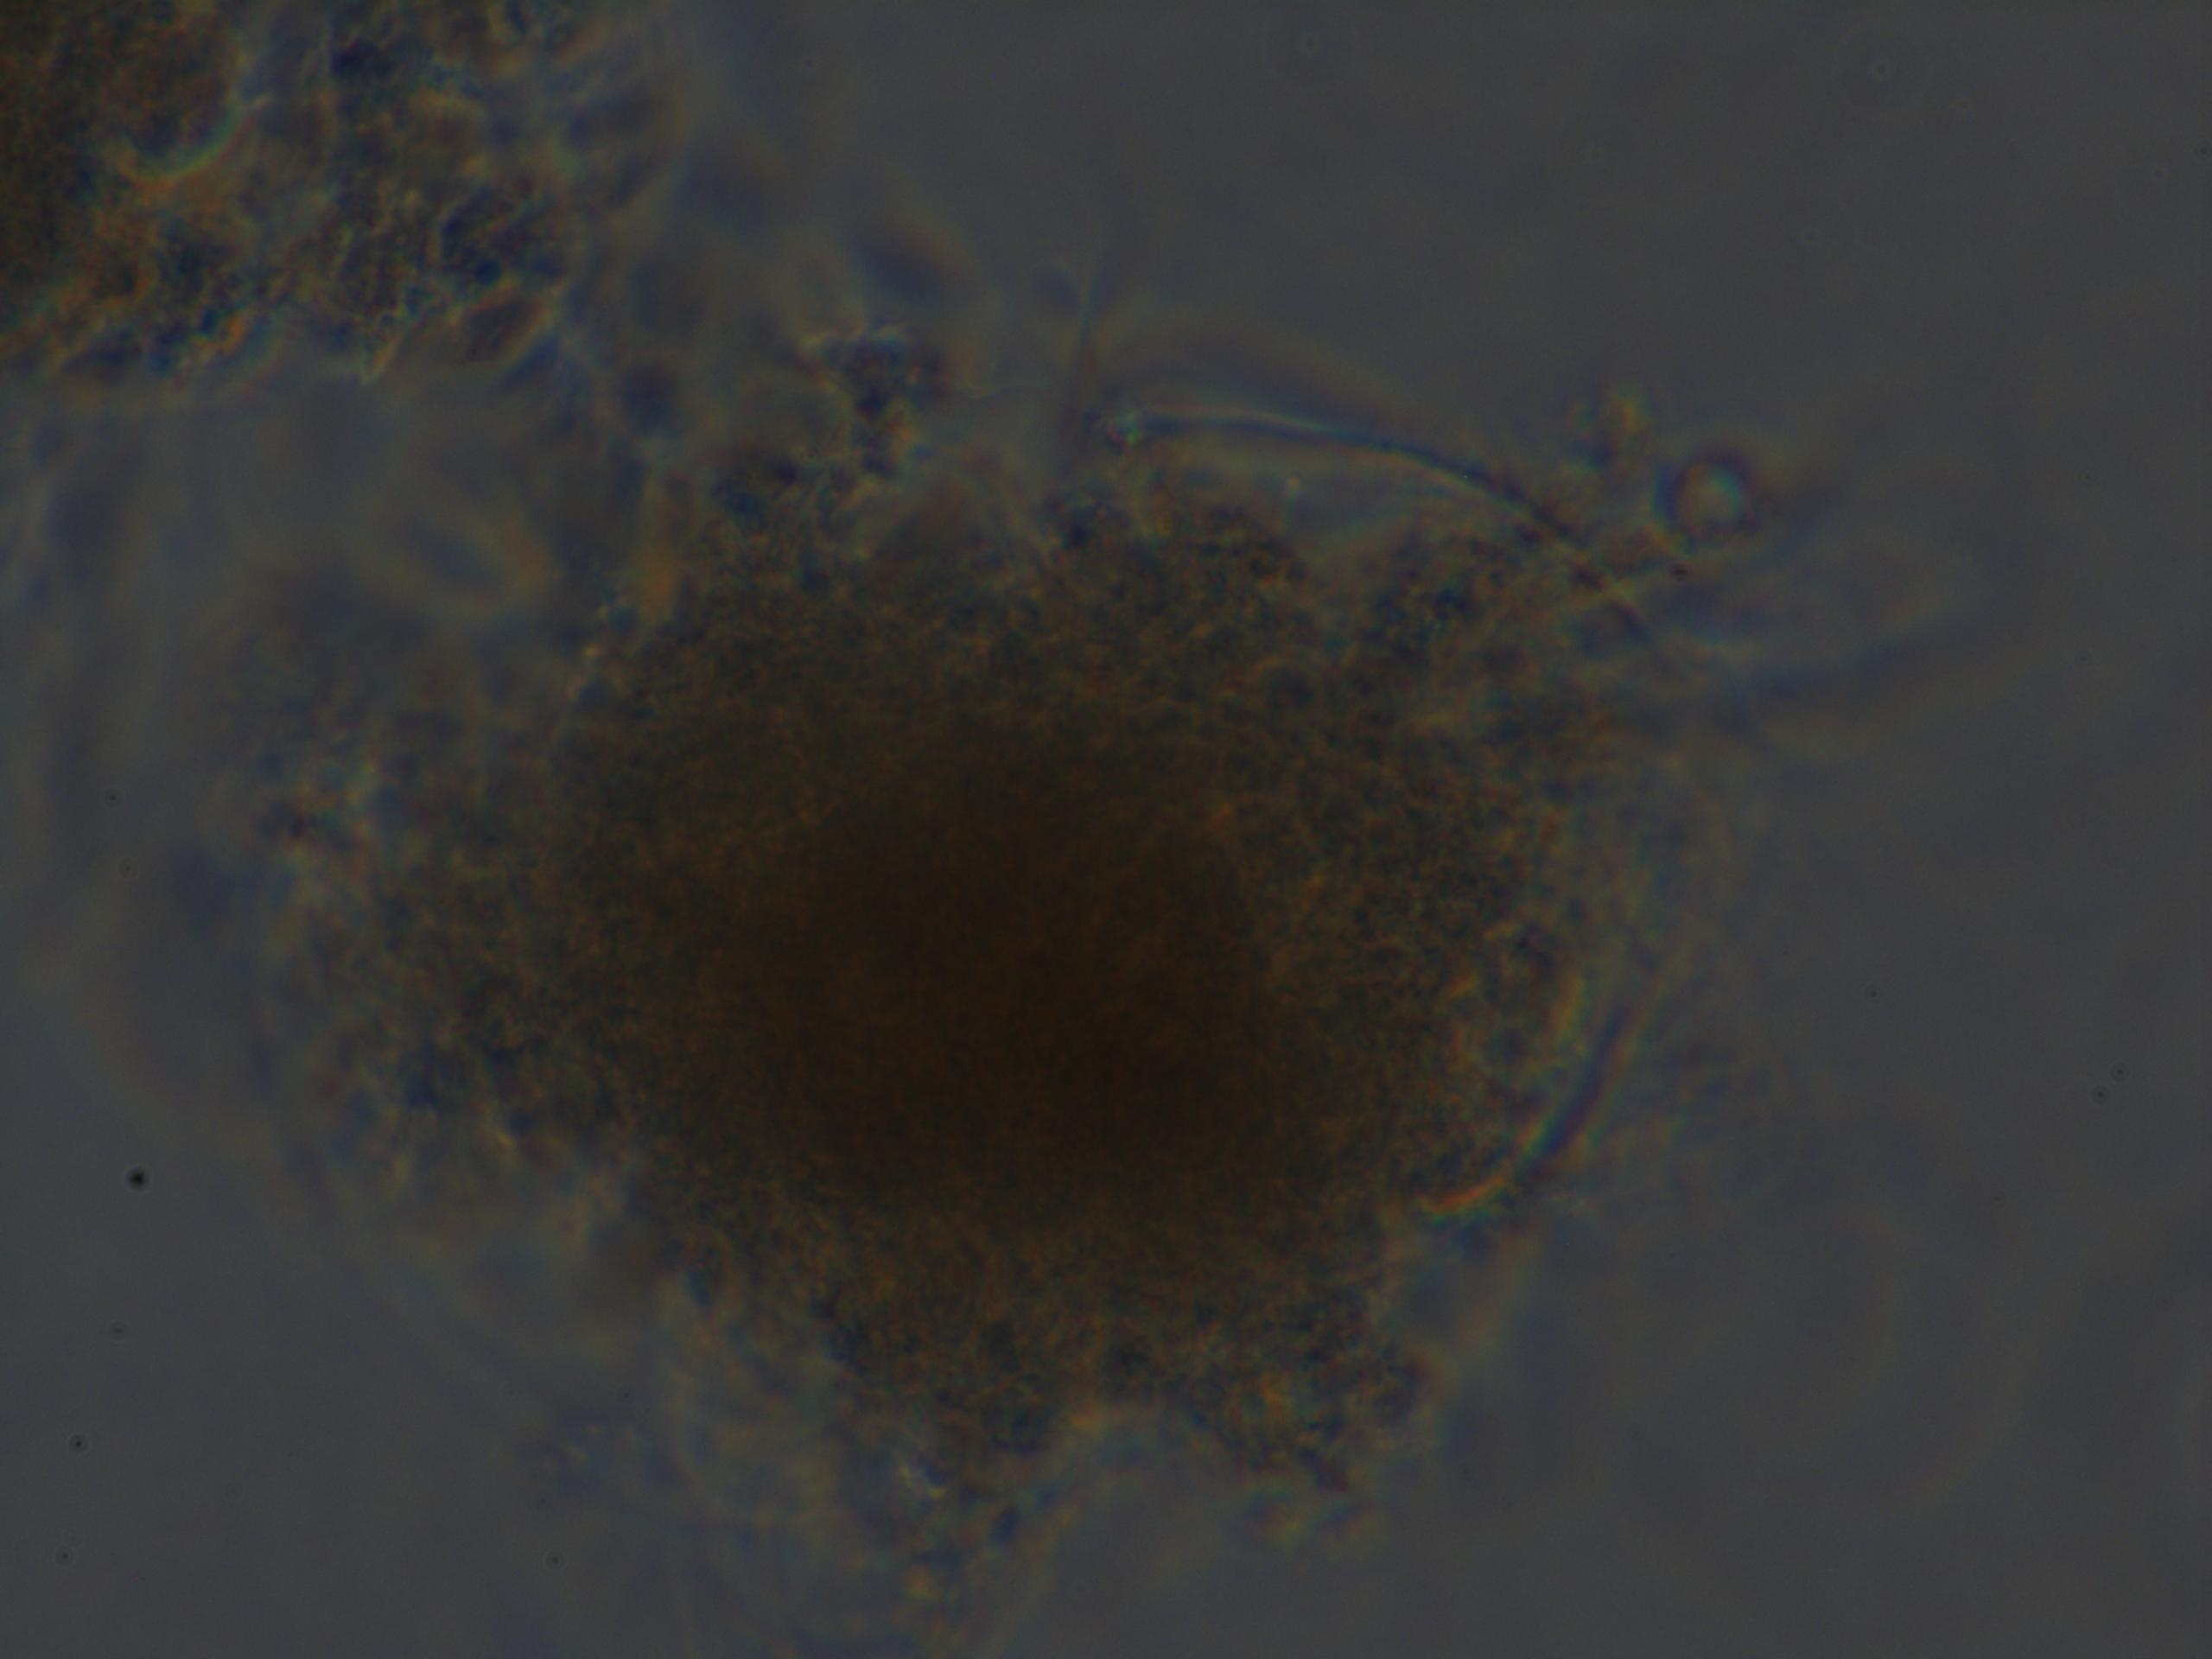filament: (1120, 390, 1623, 580)
spherical_floc: (305, 389, 1625, 1553)
